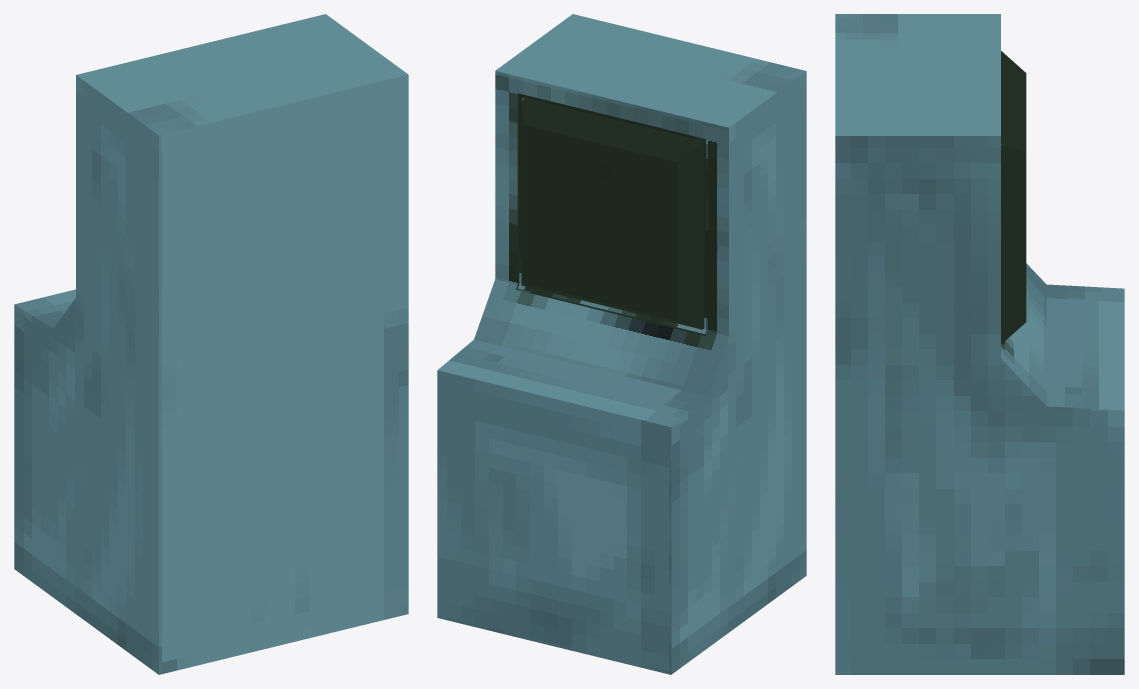
Rendered from terminal.glb.
The picture shows the model from 3 angles, left to right: view 1: azimuth 30°, elevation 25°; view 2: azimuth 150°, elevation 25°; view 3: azimuth 270°, elevation 25°; orthographic projection. The views are drawn at different scales.
Visible parts, largest first — view 1: Terminal; view 2: Terminal; view 3: Terminal.
Part boxes in pixels (bbox=[...]): Terminal: bbox=[14, 14, 408, 674]; Terminal: bbox=[437, 14, 806, 674]; Terminal: bbox=[835, 14, 1124, 674].
Size of the model in its own units: 0.9249 by 1.91 by 0.928.
Materials: 1 (1 with a texture image).
